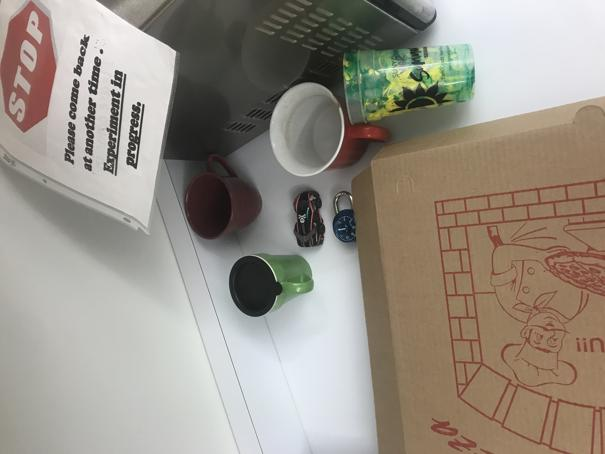Skull: (293, 190, 329, 248)
